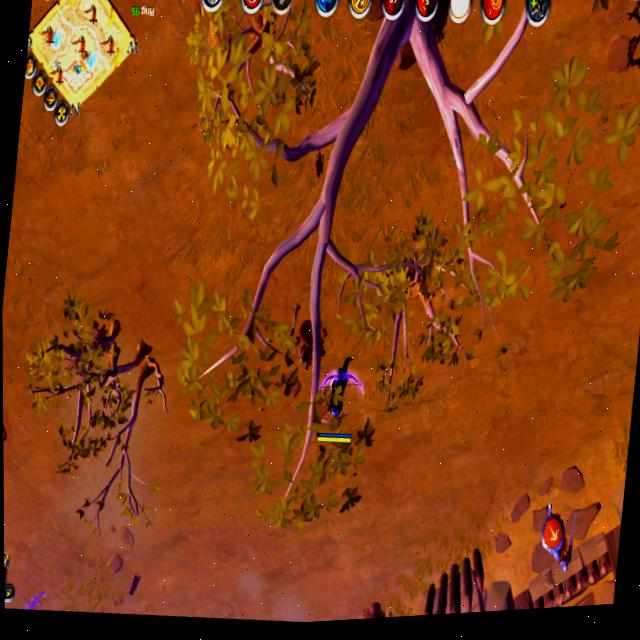red: (310, 350, 365, 453)
